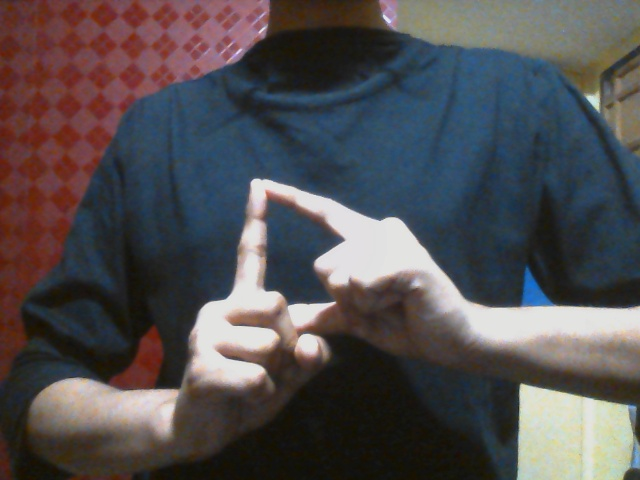D: (175, 177, 483, 463)
